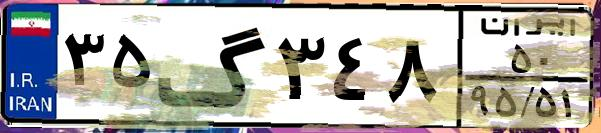0: (537, 27, 568, 80)
1: (560, 70, 590, 125)
3: (270, 28, 330, 110), (57, 26, 110, 100)
4: (330, 28, 385, 110)
5: (110, 28, 156, 98), (508, 27, 537, 80), (495, 70, 520, 125), (535, 70, 560, 125)
8: (385, 28, 445, 110)
9: (470, 70, 495, 125)
گ: (156, 12, 270, 120)
